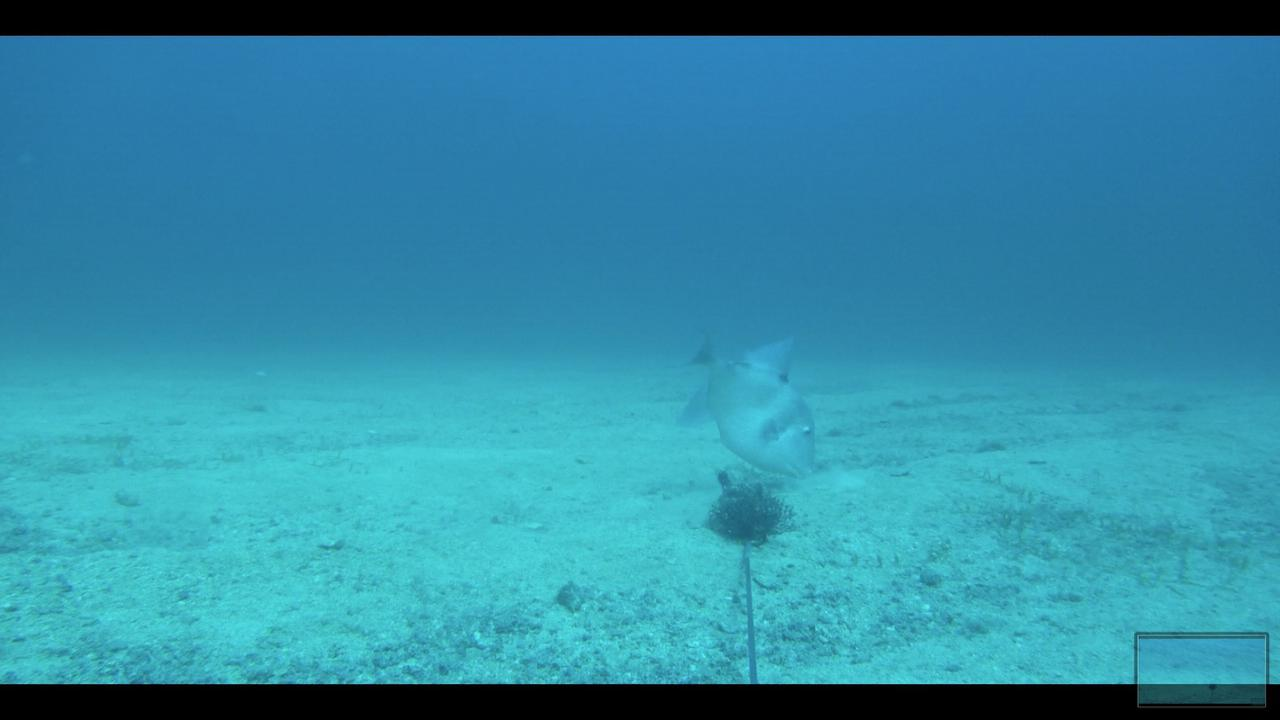balistes: (672, 329, 825, 486)
